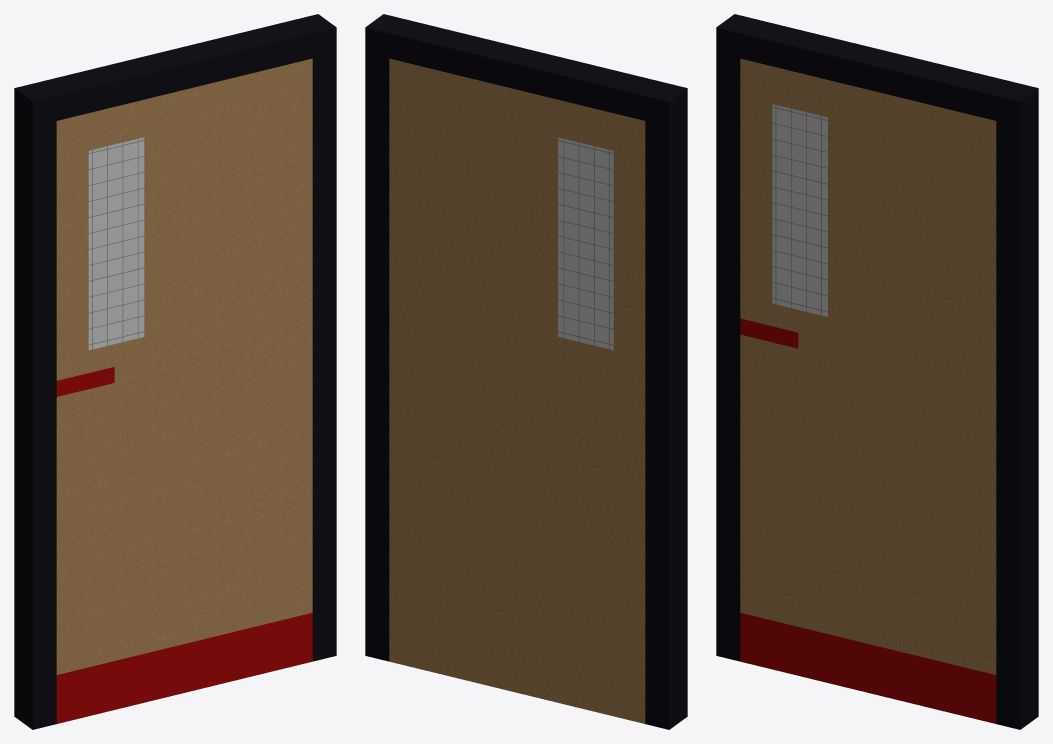
The model's file is Door.FBX.
3 views of the same model, side by side, from view 1: azimuth 30°, elevation 25°; view 2: azimuth 150°, elevation 25°; view 3: azimuth 330°, elevation 25° (orthographic).
Visible parts, largest first — view 1: Box001, Object001; view 2: Box001, Object001; view 3: Box001, Object001.
Part boxes in pixels (x1,y1,x2,y2): Box001: (14, 14, 336, 729); Object001: (88, 137, 144, 350); Box001: (365, 14, 687, 729); Object001: (558, 137, 613, 350); Box001: (716, 14, 1038, 729); Object001: (772, 104, 827, 316).
Size of the model in its own units: 95 by 188 by 10.
Materials: 4 (2 with a texture image).
